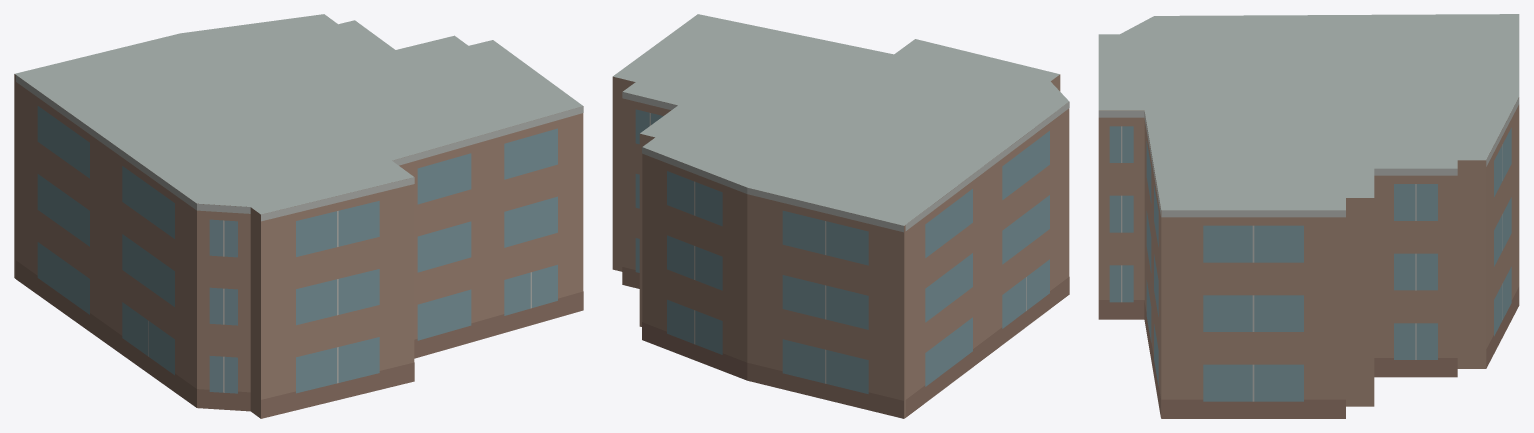
File: survey-upis-33041620.glb
The picture shows the model from 3 angles, left to right: view 1: azimuth 30°, elevation 25°; view 2: azimuth 150°, elevation 25°; view 3: azimuth 270°, elevation 25°; orthographic projection. The views are drawn at different scales.
Parts seen in each view (by area): view 1: survey-upis-33041620.tmp; view 2: survey-upis-33041620.tmp; view 3: survey-upis-33041620.tmp.
Part boxes in pixels (x1,y1,x2,y2): survey-upis-33041620.tmp: [14, 14, 583, 418]; survey-upis-33041620.tmp: [612, 14, 1069, 418]; survey-upis-33041620.tmp: [1098, 14, 1519, 418].
Size of the model in its own units: 14.53 by 7.2 by 13.17.
